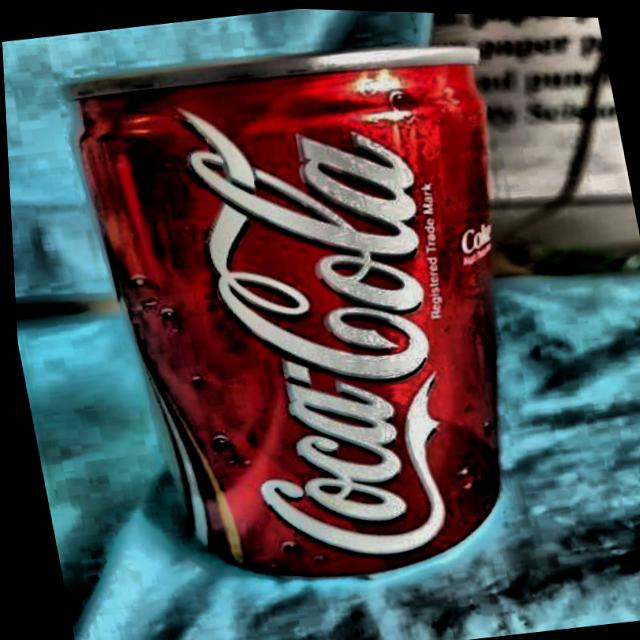Cans: (29, 1, 609, 640)
